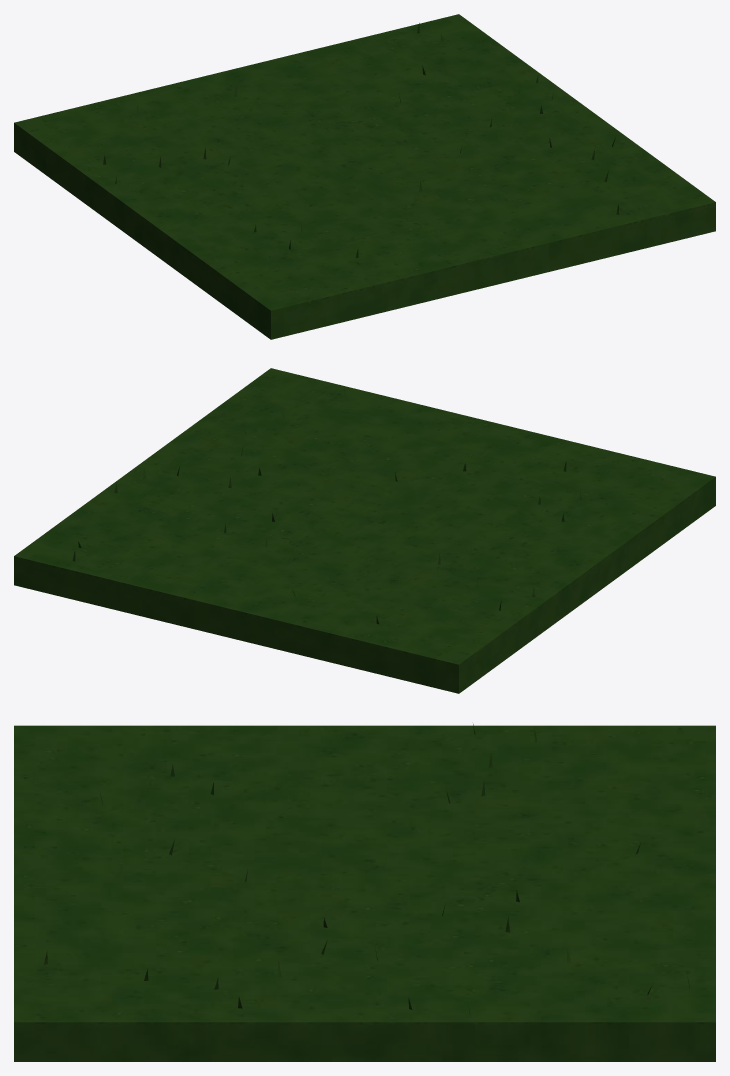
The model's file is lawn.glb.
3 views of the same model, one above another, from view 1: azimuth 30°, elevation 25°; view 2: azimuth 150°, elevation 25°; view 3: azimuth 270°, elevation 25° (orthographic). The views are drawn at different scales.
Visible parts, largest first — view 1: lawn; view 2: lawn; view 3: lawn.
Boxes of the visible parts, x1=… form: lawn: x1=14, y1=14, x2=715, y2=339; lawn: x1=14, y1=368, x2=715, y2=693; lawn: x1=14, y1=724, x2=715, y2=1061.
Bounding box in the file's own units: 2 × 0.1787 × 2.
1 material, 1 textured.
